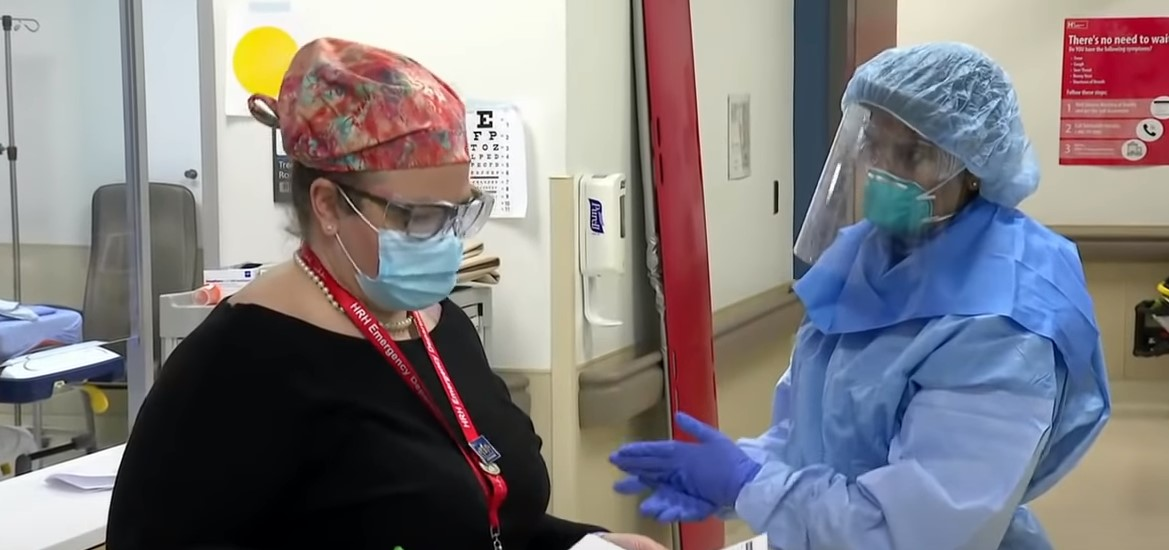face_with_mask: (281, 41, 492, 318), (827, 38, 1027, 248)
